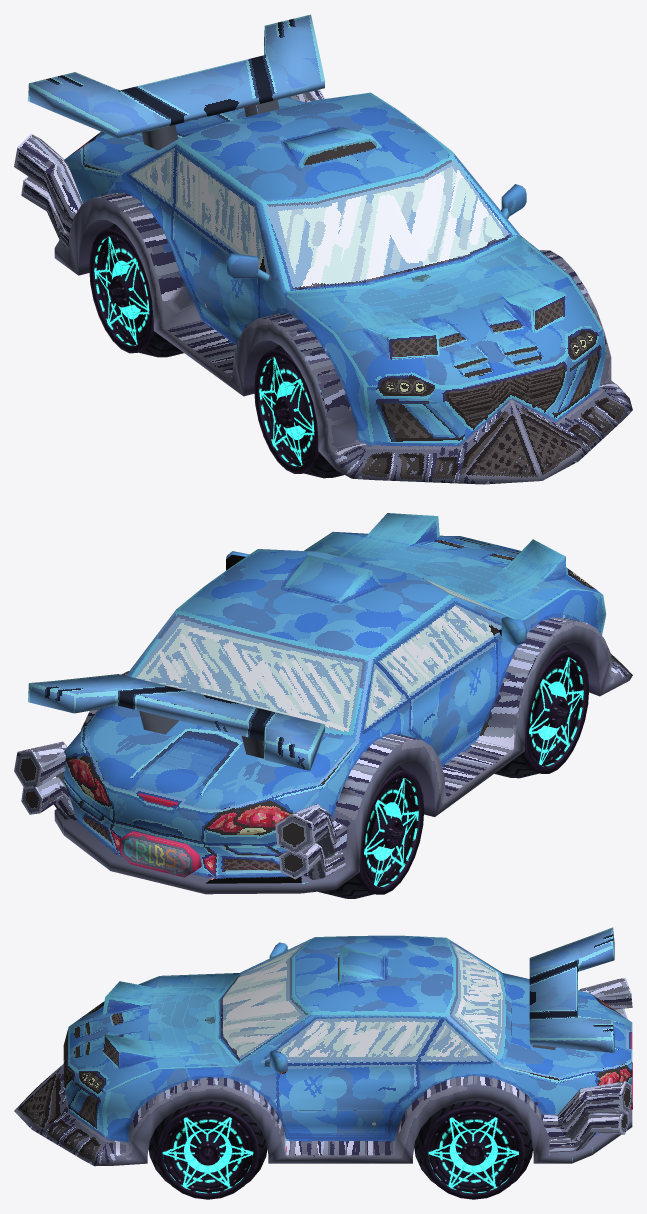
Rendered from Car_Custo.glb.
3 views of the same model, one above another, from view 1: azimuth 30°, elevation 25°; view 2: azimuth 150°, elevation 25°; view 3: azimuth 270°, elevation 25° (orthographic). The views are drawn at different scales.
Visible parts, largest first — view 1: body_Symmetry_FINAL, wheel-front-right, wheel-back-right; view 2: body_Symmetry_FINAL, wheel-front-right, wheel-back-right; view 3: body_Symmetry_FINAL, wheel-back-left, wheel-front-left.
Boxes of the visible parts, left/top/right/bottom form: body_Symmetry_FINAL: left=14, top=14, right=632, bottom=484; wheel-front-right: left=89, top=224, right=183, bottom=357; wheel-back-right: left=254, top=345, right=344, bottom=478; body_Symmetry_FINAL: left=14, top=513, right=632, bottom=894; wheel-front-right: left=318, top=765, right=424, bottom=898; wheel-back-right: left=494, top=645, right=589, bottom=778; body_Symmetry_FINAL: left=14, top=927, right=632, bottom=1166; wheel-back-left: left=414, top=1100, right=532, bottom=1199; wheel-front-left: left=148, top=1101, right=267, bottom=1199.
Bounding box in the file's own units: 1.39 × 1.08 × 3.08.
2 materials, 2 textured.
